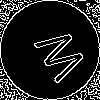W: (25, 25, 88, 89)
